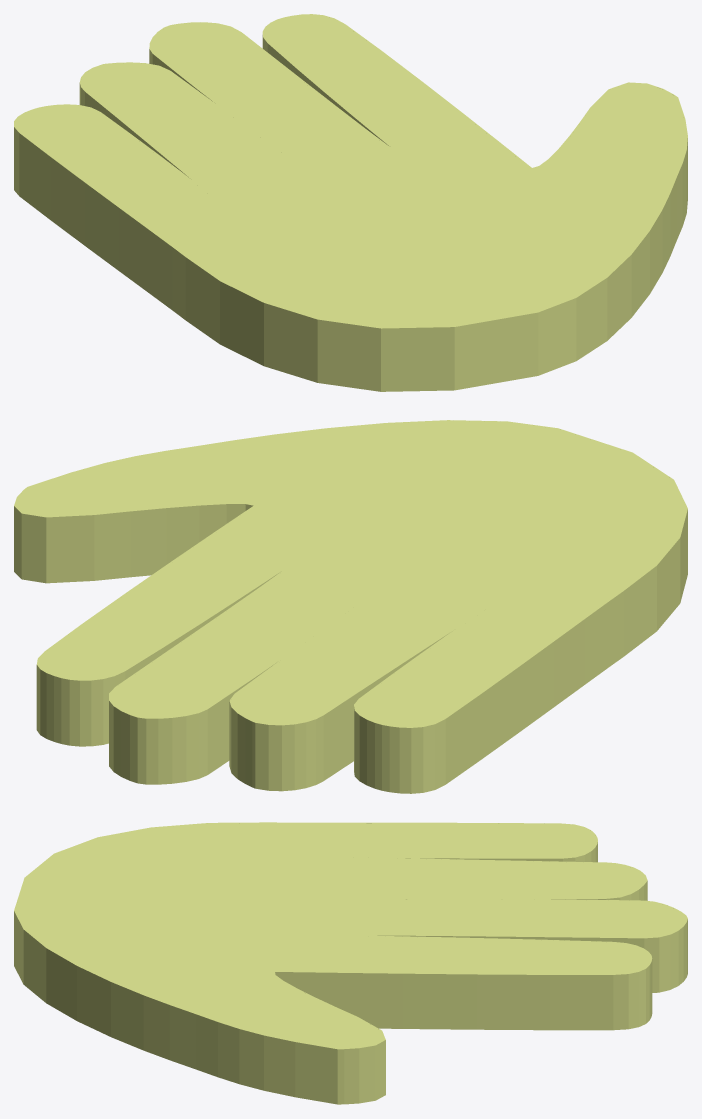
Rendered from hand.glb.
The picture shows the model from 3 angles, top to bottom: view 1: azimuth 30°, elevation 25°; view 2: azimuth 150°, elevation 25°; view 3: azimuth 270°, elevation 25°; orthographic projection. The views are drawn at different scales.
Visible parts, largest first — view 1: Path - baked, path4508 - Stroke - baked; view 2: Path - baked, path4508 - Stroke - baked; view 3: Path - baked, path4508 - Stroke - baked.
Part boxes in pixels (bbox=[...]): Path - baked: bbox=[15, 14, 686, 327]; path4508 - Stroke - baked: bbox=[14, 14, 687, 391]; Path - baked: bbox=[15, 420, 686, 727]; path4508 - Stroke - baked: bbox=[14, 420, 687, 793]; Path - baked: bbox=[15, 823, 686, 1048]; path4508 - Stroke - baked: bbox=[14, 822, 687, 1104].
Size of the model in its own units: 0.062 by 0.00704 by 0.0778.
